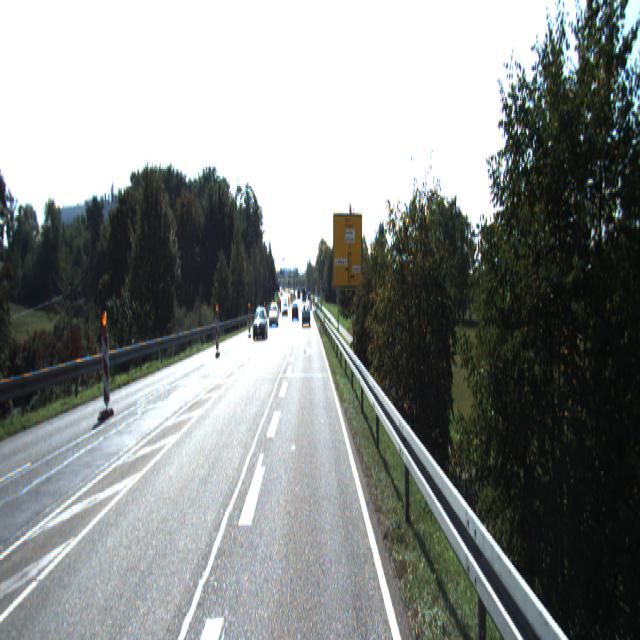Car: (252, 307, 268, 343), (302, 308, 310, 330)
